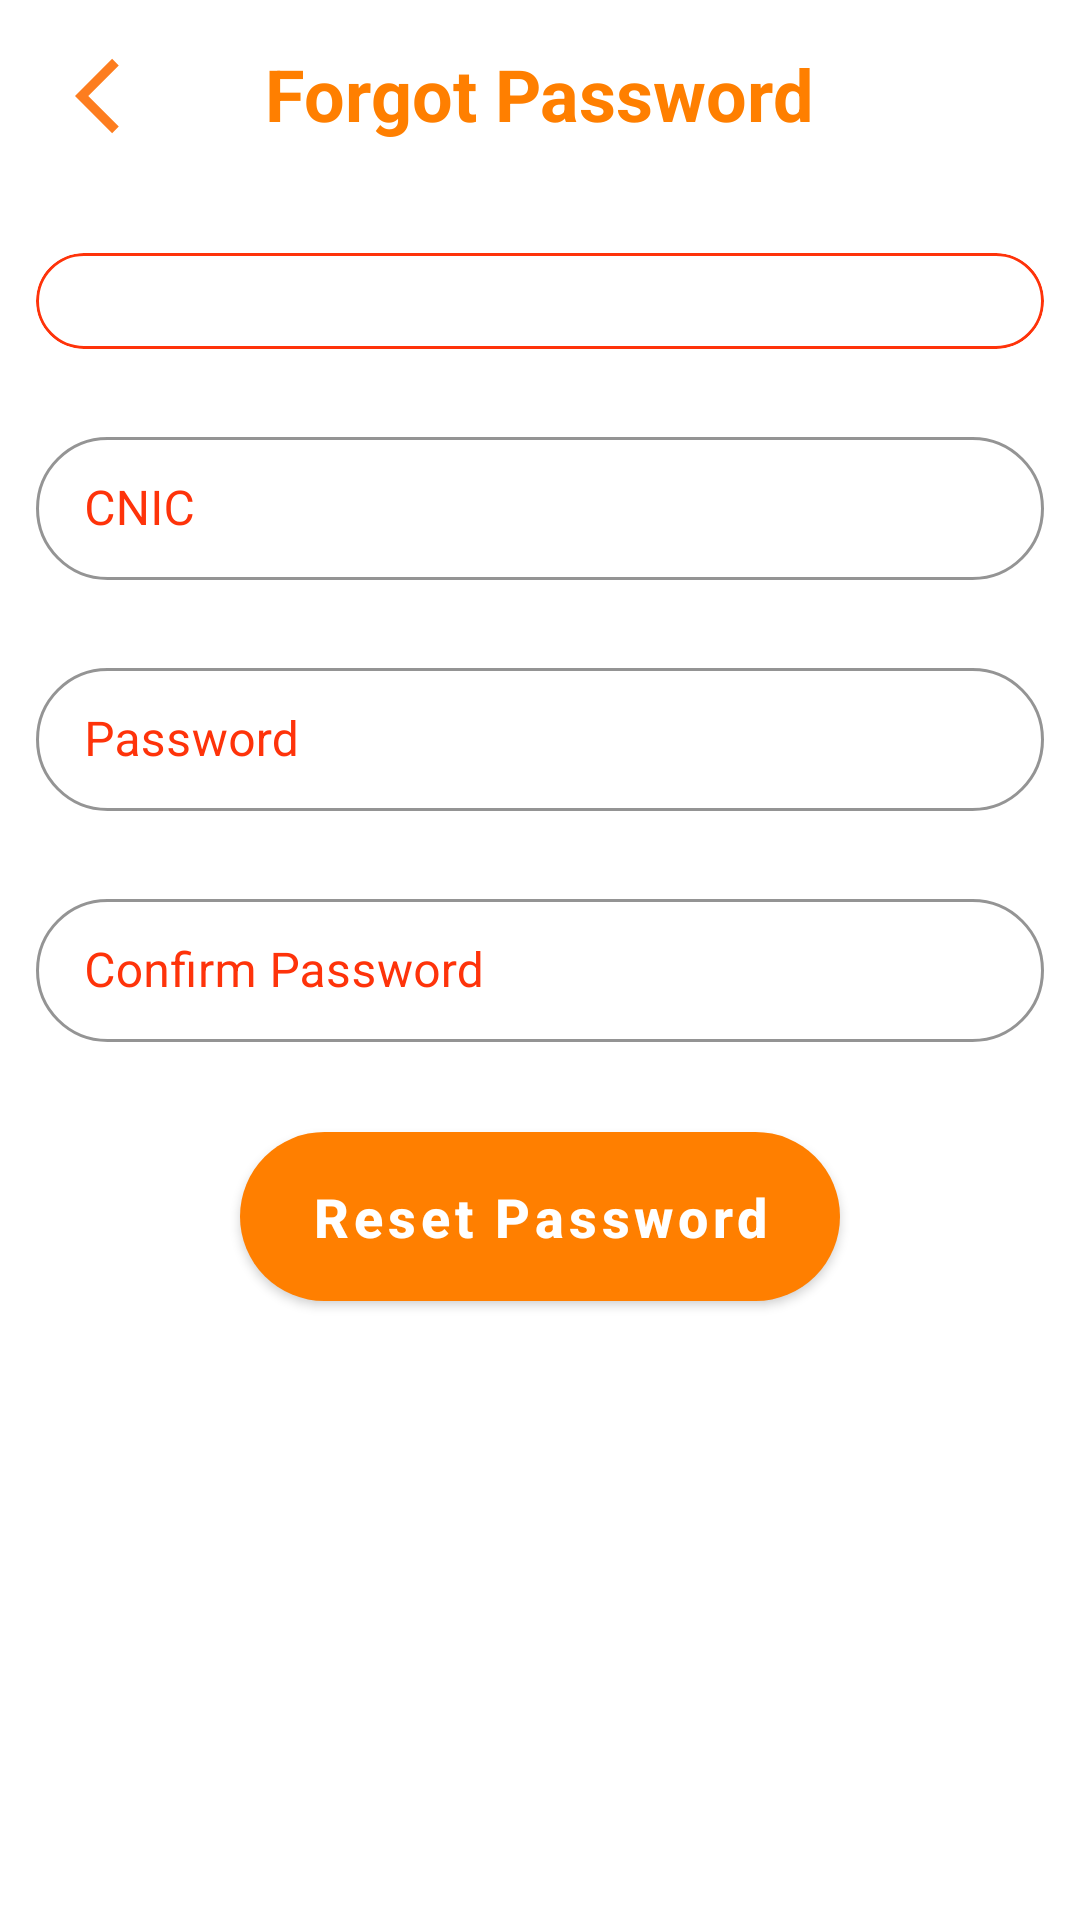

Icon bounding boxes for this 1080px x 1920px phone screenshot, format box(x1, y1, x2, y2):
arrow back: box(75, 59, 119, 133)
